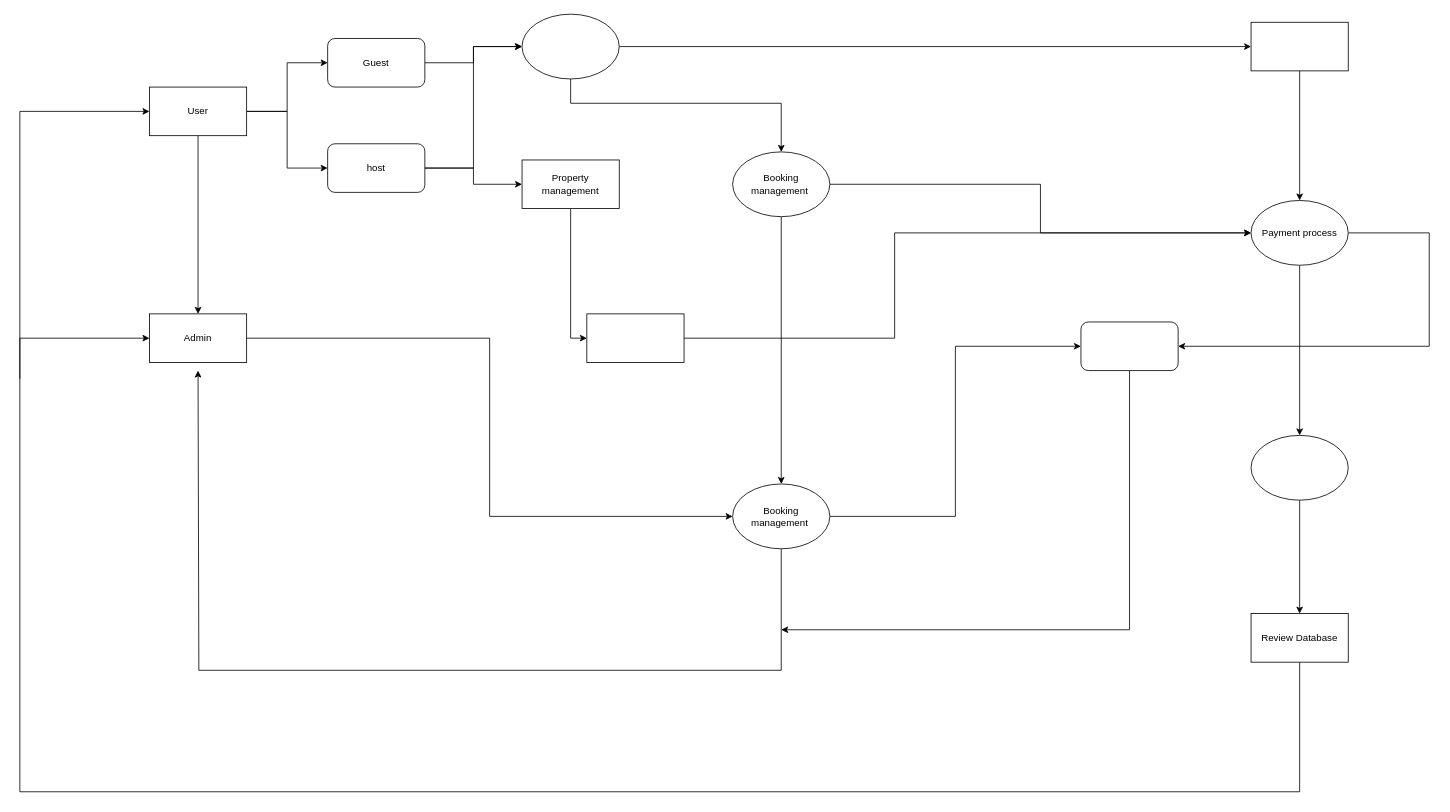
Image size: 1450x812. Some labels were removed from this diagram. The shapes that lost their labels are listed below. From the top down, each one's centre as x and y in pixels, then its label:
[570,46]: User authentication
[1299,46]: User Database
[635,337]: Property Database
[1129,346]: Payment Database
[1299,467]: Review Management
